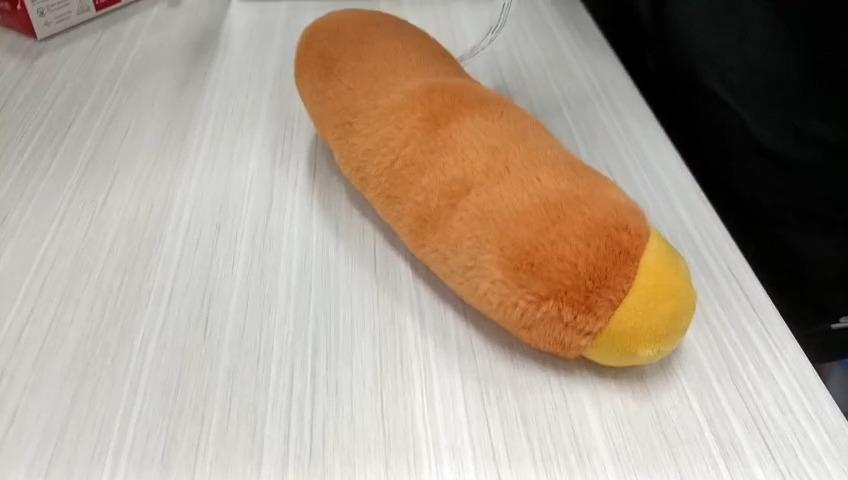hotdog: (295, 10, 697, 368)
